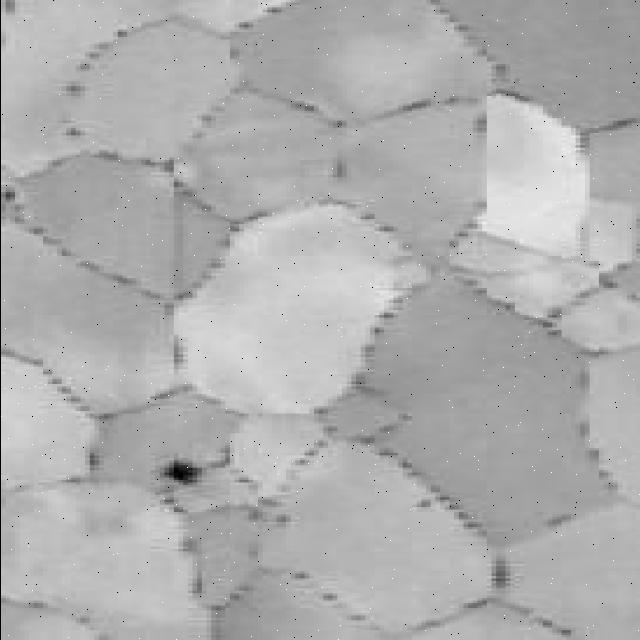good_void: (156, 459, 197, 488)
